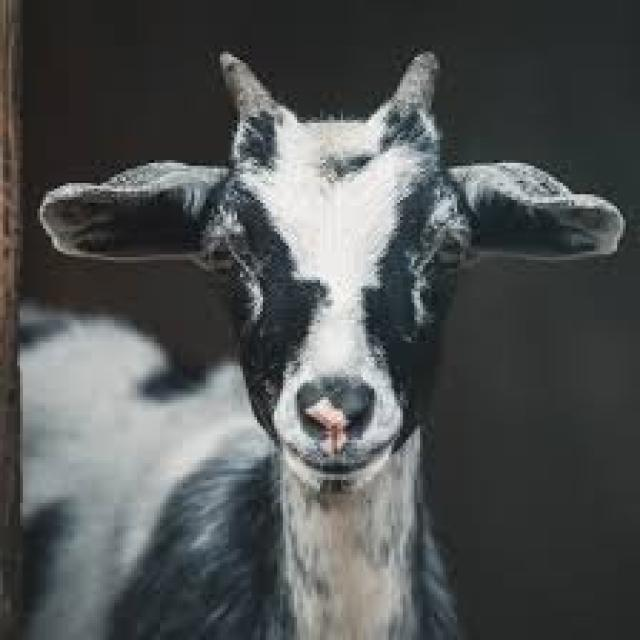Goat: (3, 43, 628, 640)
